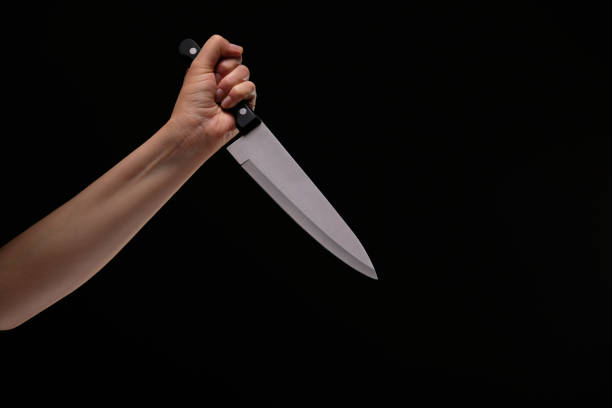knife: (175, 34, 382, 284)
